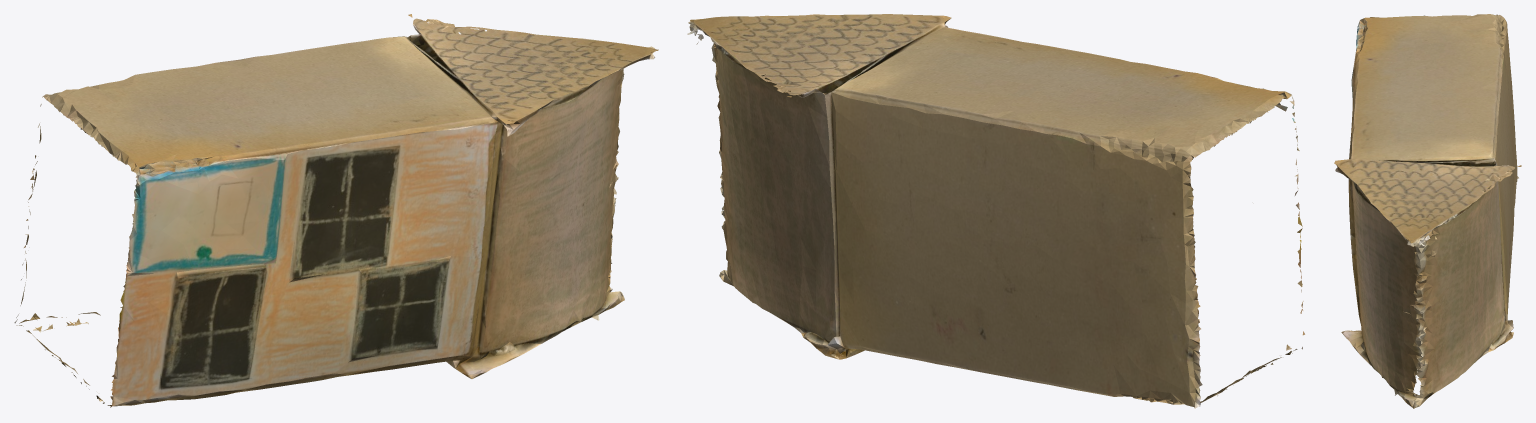
Rendered from m10_5K_1024tex.glb.
3 views of the same model, side by side, from view 1: azimuth 30°, elevation 25°; view 2: azimuth 150°, elevation 25°; view 3: azimuth 270°, elevation 25° (orthographic). The views are drawn at different scales.
Bounding box in the file's own units: 7.51 × 3.65 × 2.91.
Materials: 1 (1 with a texture image).
